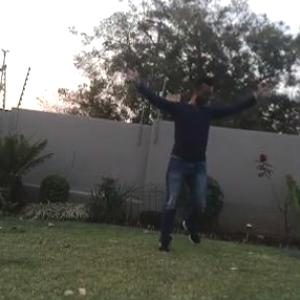takeoff: (121, 64, 276, 263)
